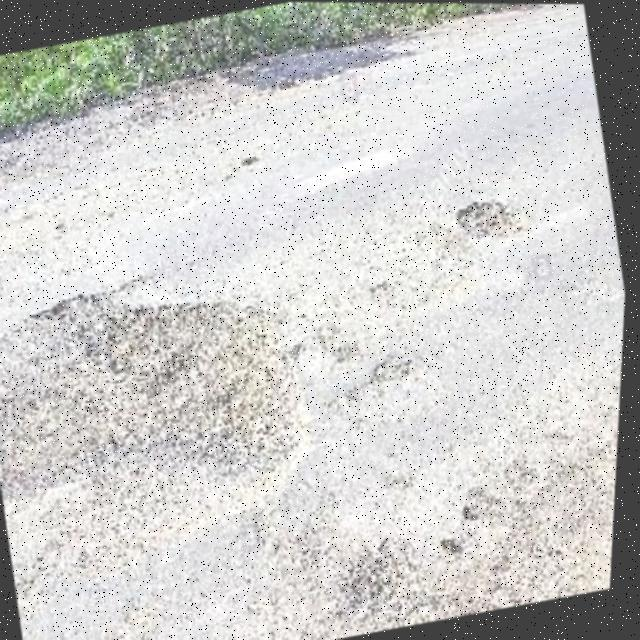pothole: (20, 246, 339, 529), (450, 186, 530, 248)
